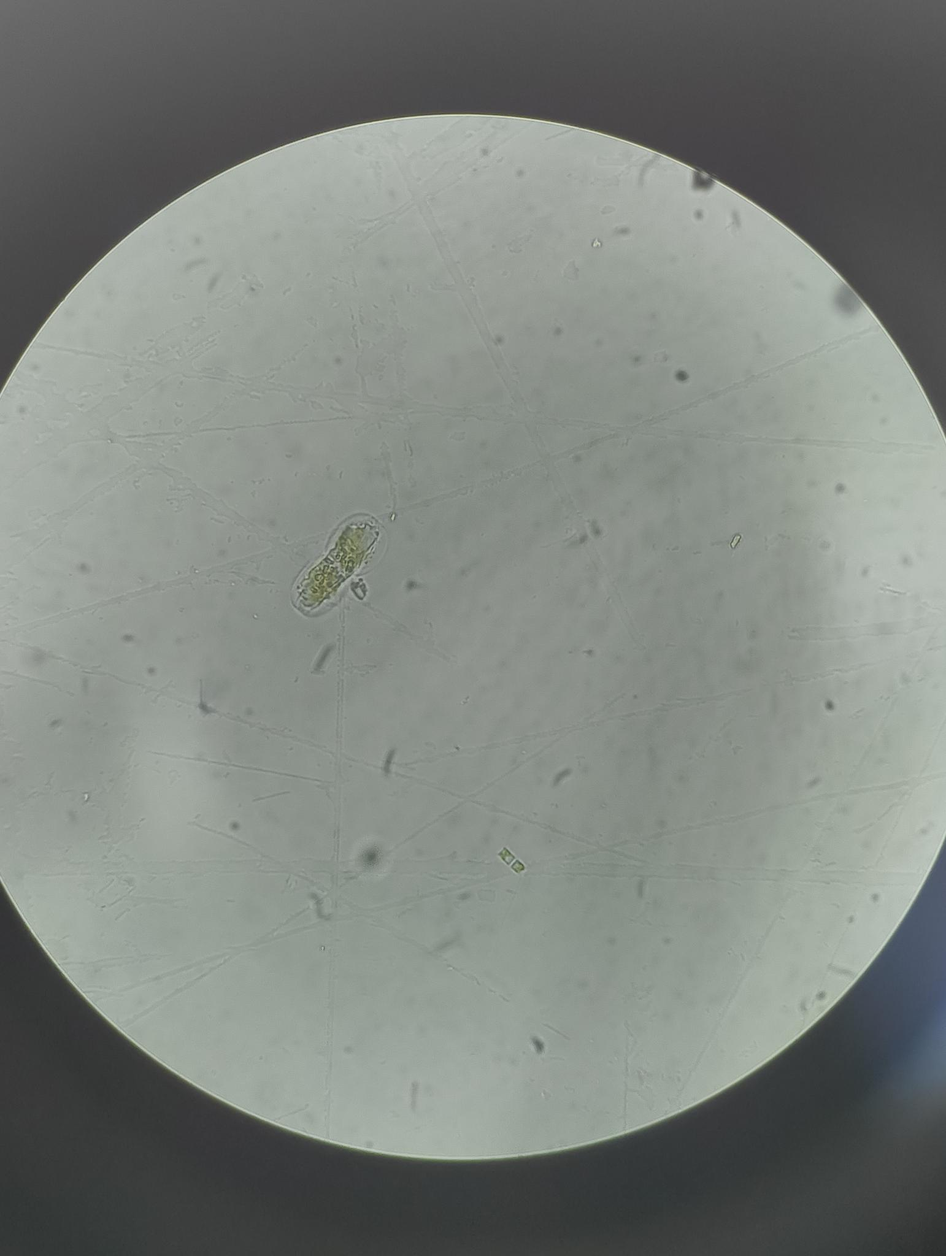Euglena: (285, 510, 399, 621)
